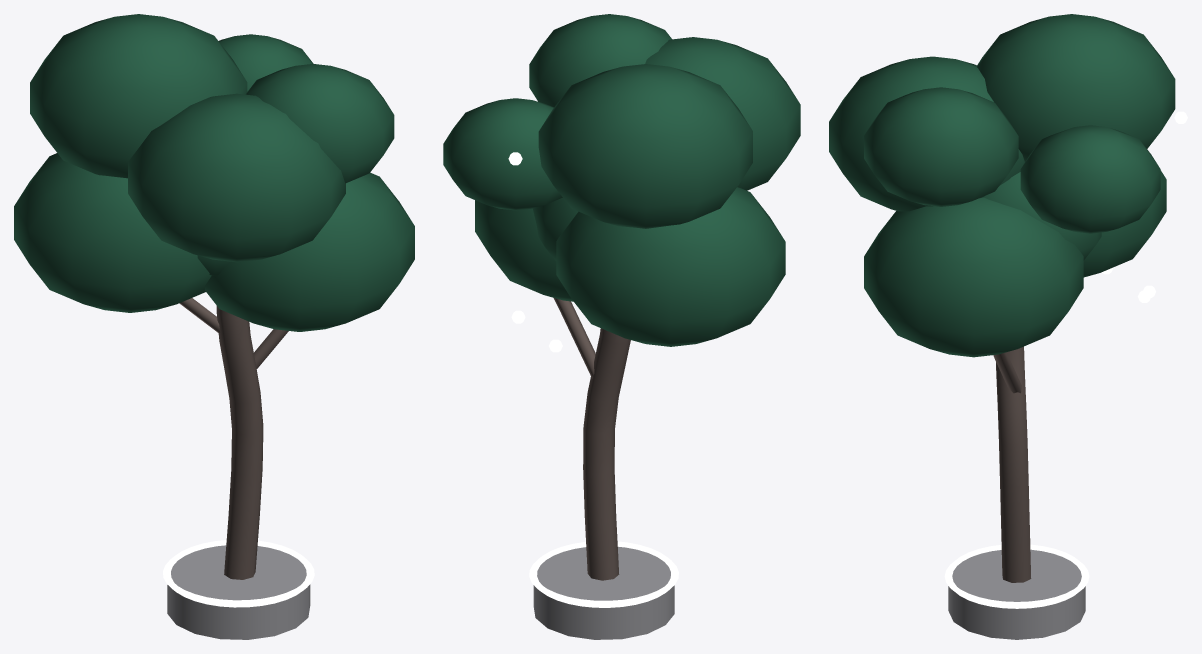
The model's file is tree.glb.
3 views of the same model, side by side, from view 1: azimuth 30°, elevation 25°; view 2: azimuth 150°, elevation 25°; view 3: azimuth 270°, elevation 25° (orthographic). The views are drawn at different scales.
Visible parts, largest first — view 1: tree; view 2: tree; view 3: tree.
Boxes of the visible parts, x1,y1,x2,y2 form: tree: [14, 14, 414, 639]; tree: [443, 14, 800, 639]; tree: [829, 14, 1187, 639].
Size of the model in its own units: 4.71 by 7.97 by 4.71.
